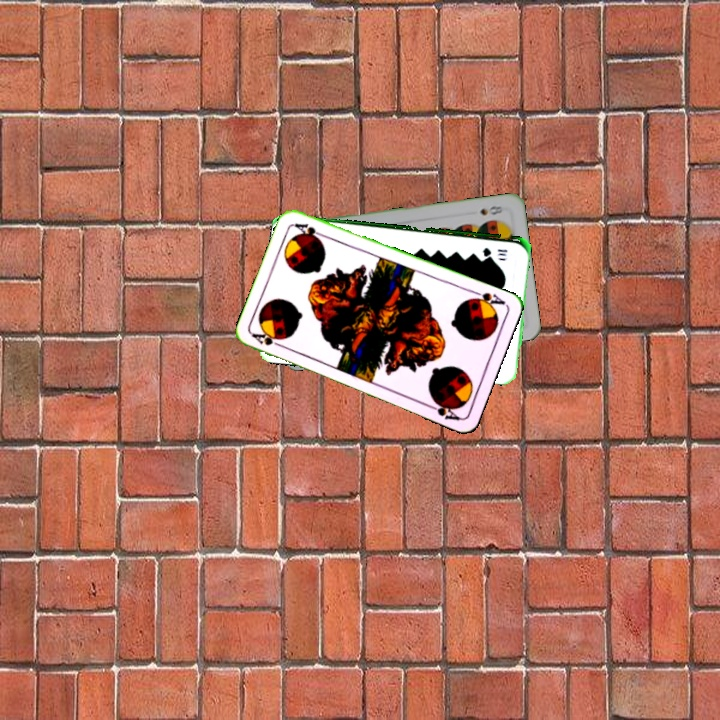G10: (479, 244, 510, 258)
S8: (476, 202, 509, 218)
SA: (466, 286, 507, 311), (248, 329, 288, 350)
